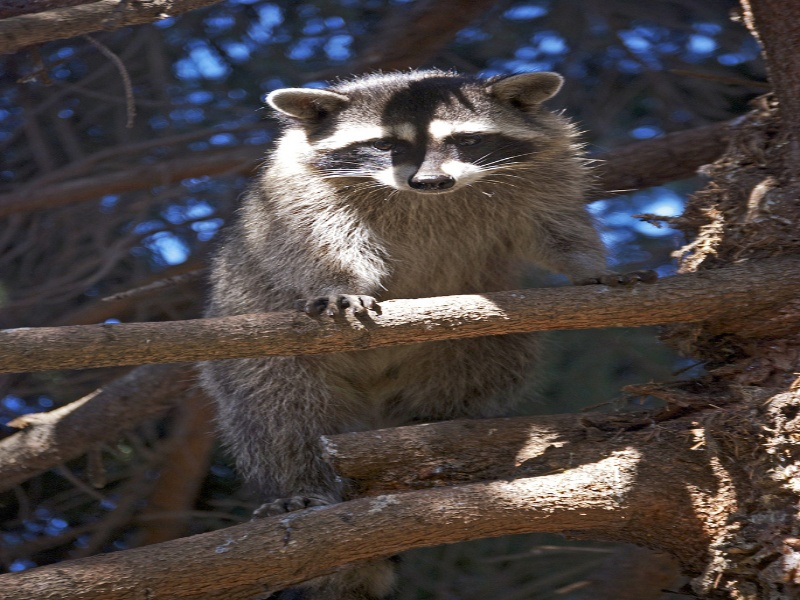raccoon: (185, 66, 657, 520)
